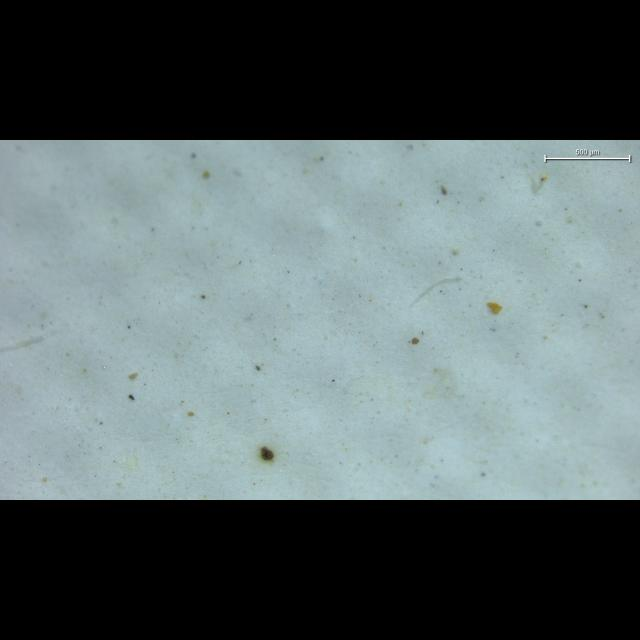Fibre: (410, 277, 462, 305), (0, 330, 59, 352)
Fragment: (487, 302, 502, 314), (261, 447, 274, 460)
